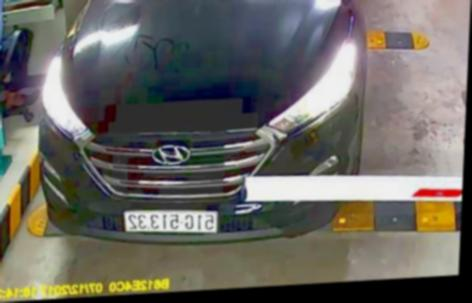License_Plate: (119, 203, 217, 240)
